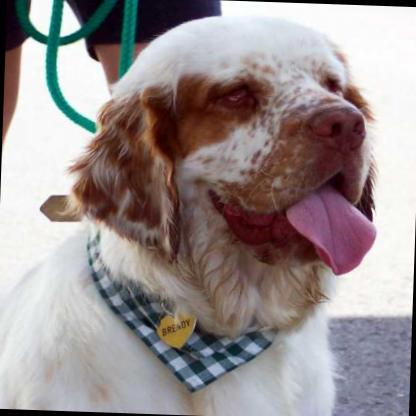clumber: (0, 3, 386, 416)
